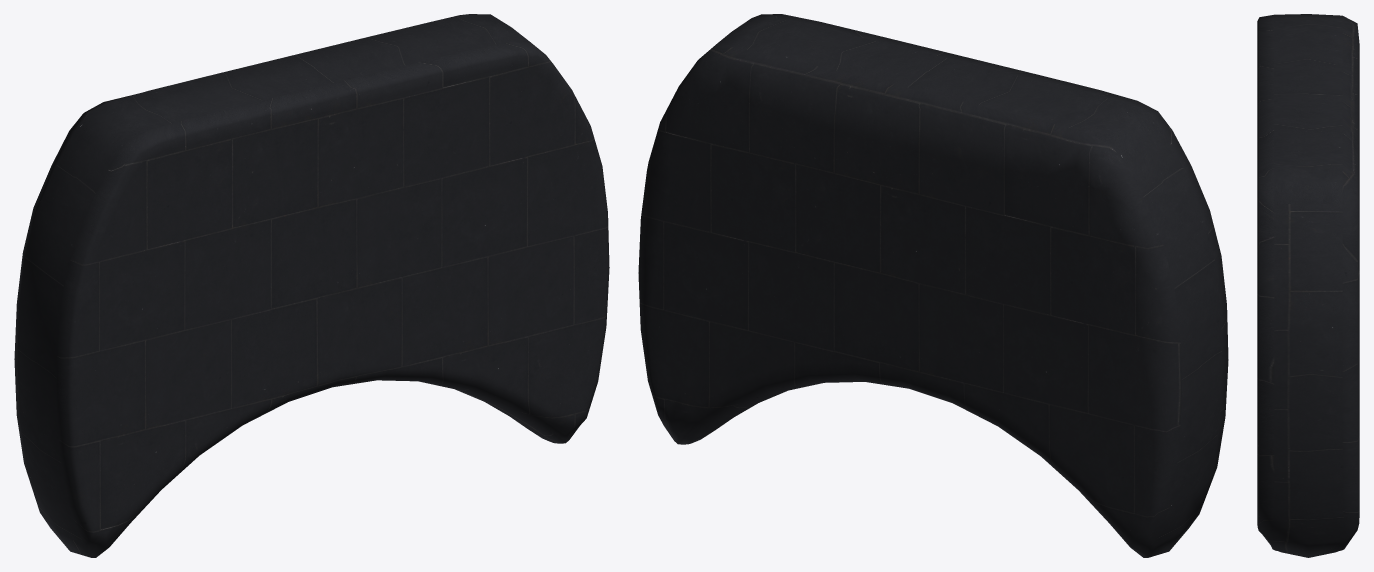
The model's file is slide_wall.fbx.
3 renders of one model, left to right at view 1: azimuth 30°, elevation 25°; view 2: azimuth 150°, elevation 25°; view 3: azimuth 270°, elevation 25°, orthographic. The views are drawn at different scales.
Parts seen in each view (by area): view 1: slide_wall; view 2: slide_wall; view 3: slide_wall.
Boxes of the visible parts, x1,y1,x2,y2 form: slide_wall: [14, 14, 609, 557]; slide_wall: [638, 14, 1228, 557]; slide_wall: [1257, 14, 1359, 557].
Size of the model in its own units: 398 by 294 by 74.76.
